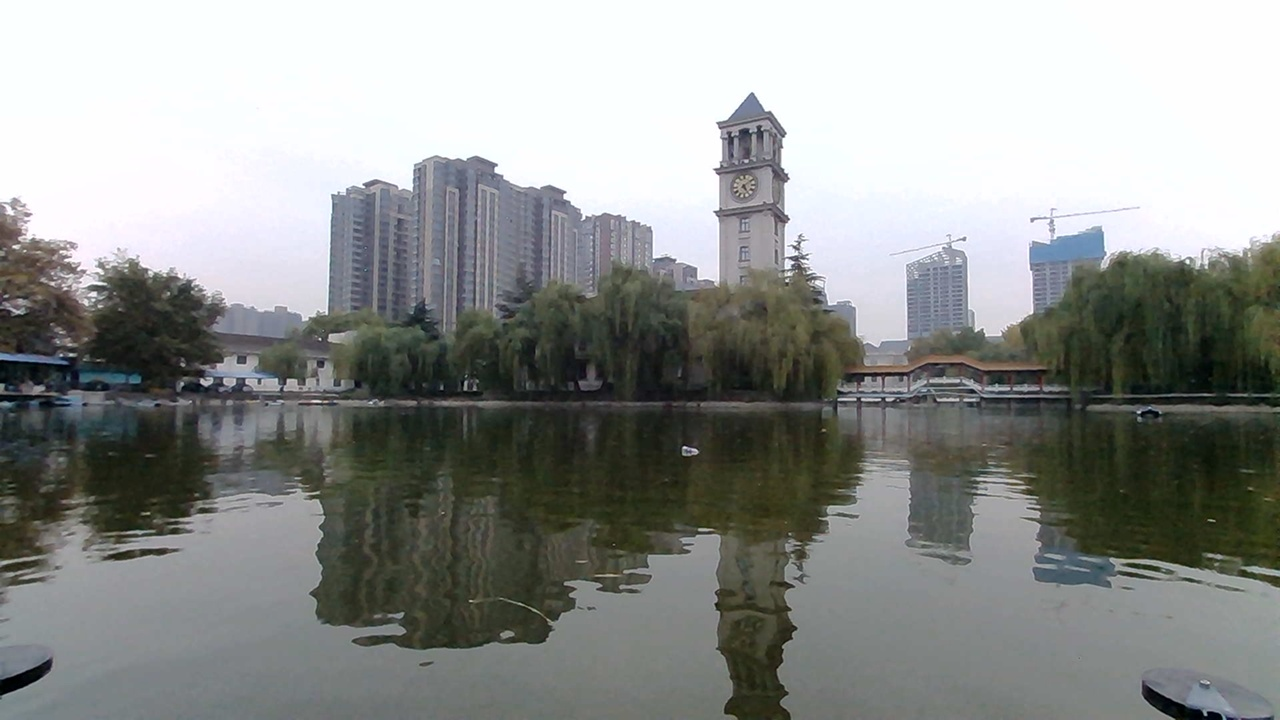bottle: (672, 432, 724, 470)
